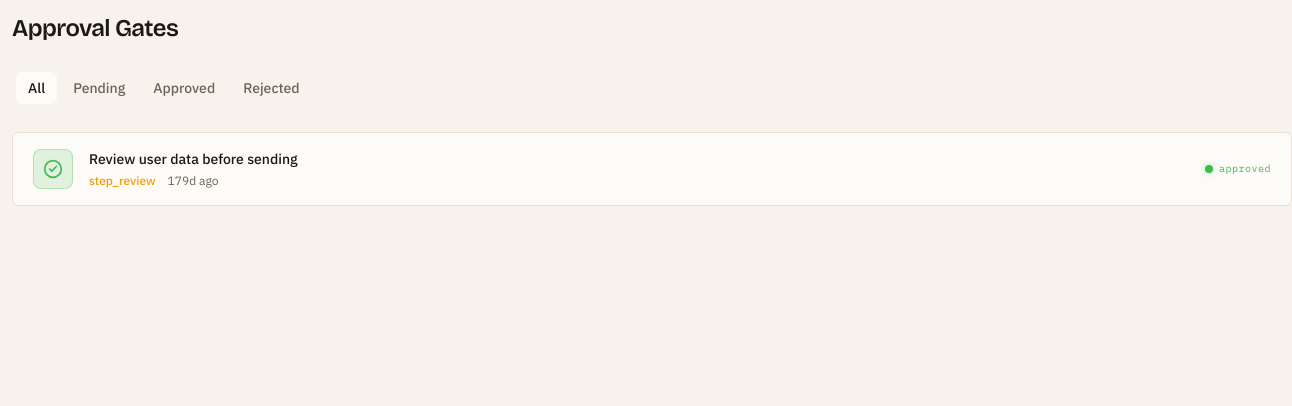
Test: ApprovalsPage › shows reviewer comment when expanded and available
The width and height of the screenshot is (1292, 406).
Expected: the text "Review user data before sending" is shown, [89,150,298,168]
Click the button with aria-label "expand details". click: click(53, 169)
box: [33,149,1271,189]
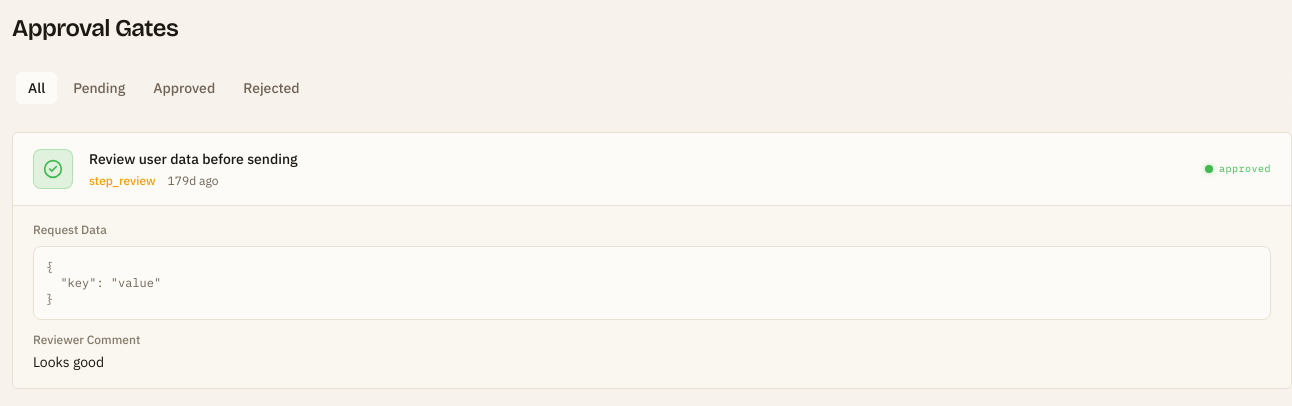
Expected: the text "Reviewer Comment" is shown, [33,332,140,347]
Expected: the text "Looks good" is shown, [33,353,104,371]
